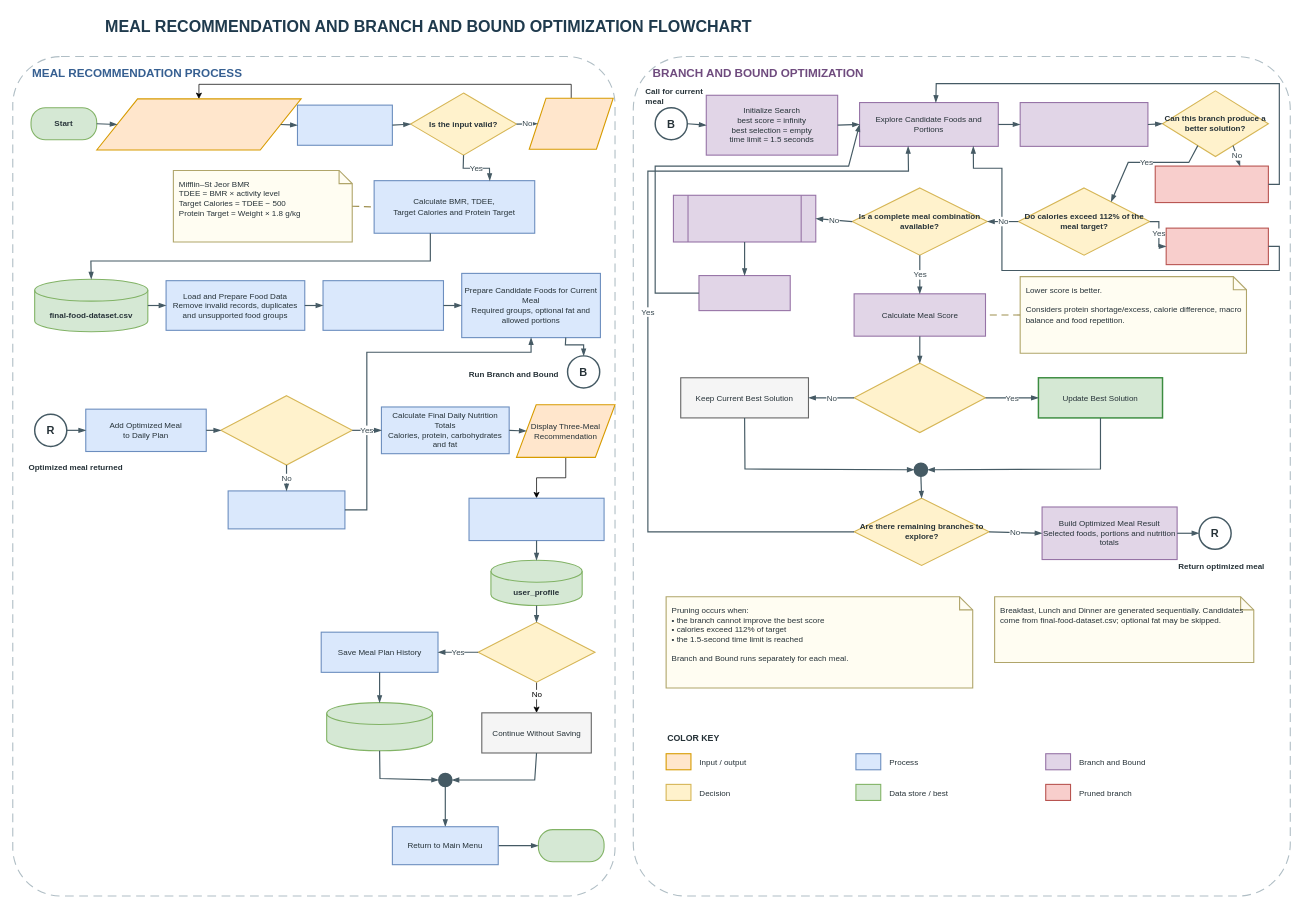
The diagram is 1304 pixels wide and 909 high, and some of its shapes have lost their labels. Each missing label, with the box of its shape:
Backtrack: (698, 275, 790, 311)
Calculate Optimistic Protein Bound: (1019, 102, 1148, 147)
Display Validation Message: (528, 97, 613, 150)
End: (537, 829, 604, 862)
Enter Personal Information Age, gender, height, weight and activity level: (96, 98, 301, 150)
Have Breakfast, Lunch and Dinner all been generated?: (220, 395, 352, 465)
Initialize Daily Meal Plan Breakfast → Lunch → Dinner: (322, 280, 444, 331)
Is the score better than the current best score?: (853, 362, 986, 433)
meal_plan_history: (326, 702, 433, 751)
Prune Current Branch: (1154, 165, 1269, 203)
Prune Portion: (1165, 227, 1269, 265)
Recursive Search for Next Food Group: (673, 194, 816, 242)
Save Current Profile Automatically: (468, 497, 604, 541)
Save meal plan?: (477, 621, 595, 682)
Select Next Meal: (227, 490, 345, 529)
Validate Input: (297, 104, 393, 145)
